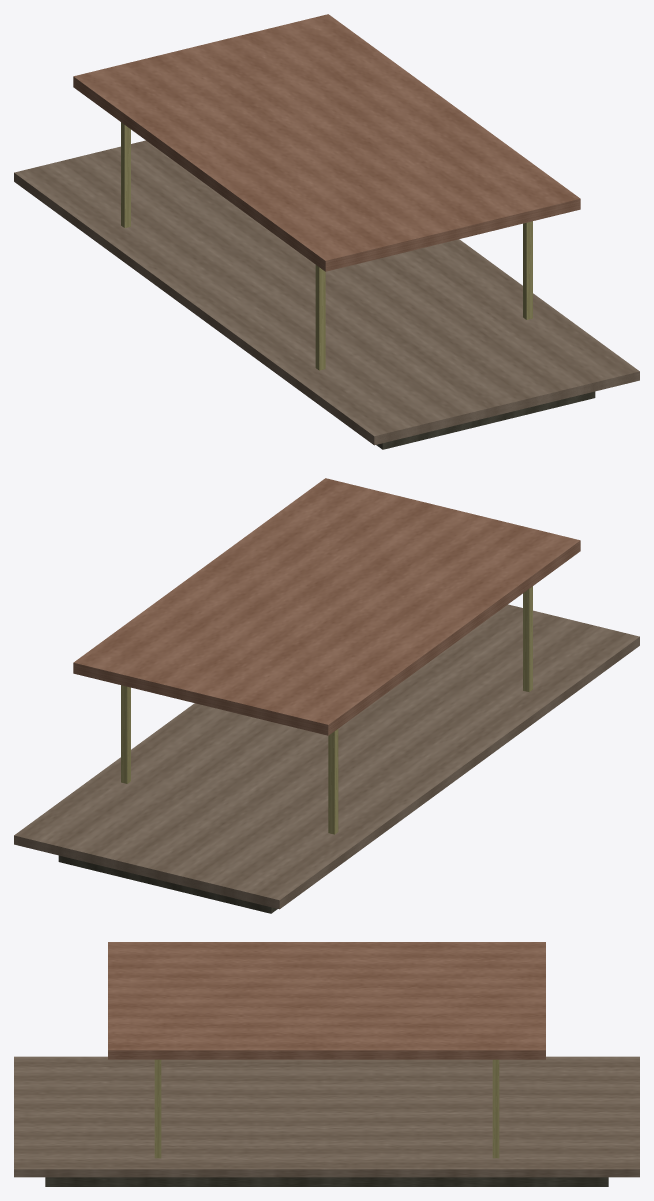
The model's file is bung-raft-3-rust-lod.glb.
The picture shows the model from 3 angles, top to bottom: view 1: azimuth 30°, elevation 25°; view 2: azimuth 150°, elevation 25°; view 3: azimuth 270°, elevation 25°; orthographic projection. The views are drawn at different scales.
Parts seen in each view (by area): view 1: bung-raft-3-rust-lod; view 2: bung-raft-3-rust-lod; view 3: bung-raft-3-rust-lod.
Part boxes in pixels (x1,y1,x2,y2): bung-raft-3-rust-lod: (14,14,639,449); bung-raft-3-rust-lod: (14,478,639,913); bung-raft-3-rust-lod: (14,942,639,1186).
Bounding box in the file's own units: 4.6 × 2.78 × 10.8.
Materials: 1 (1 with a texture image).
